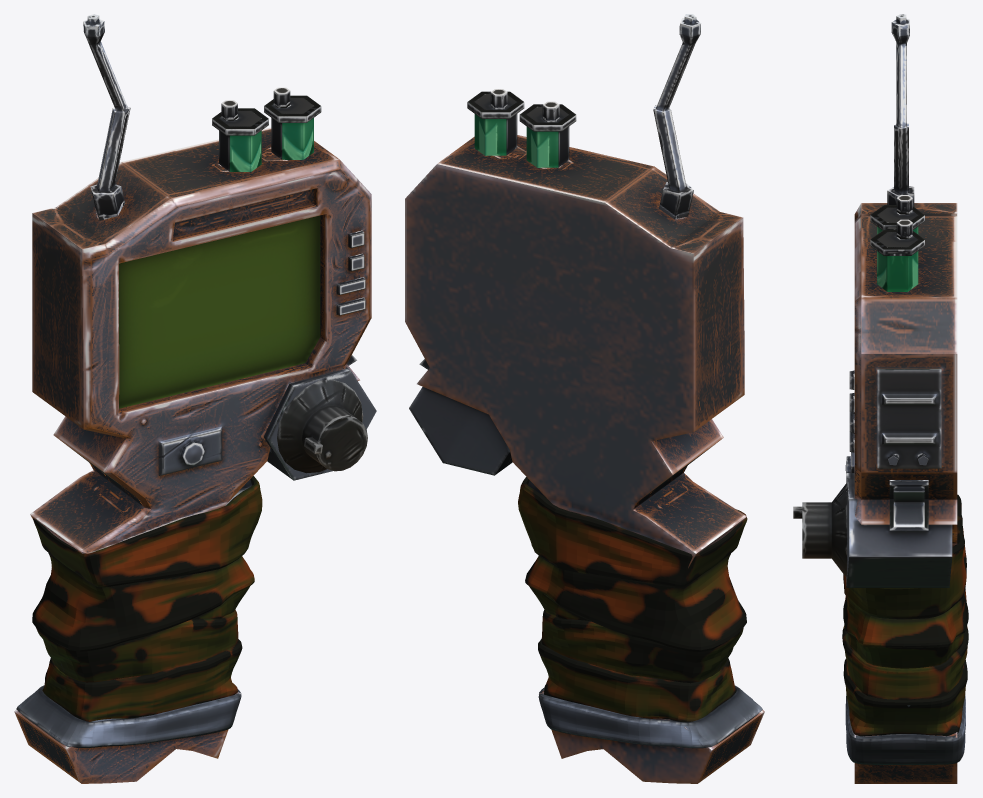
Rendered from device.glb.
3 views of the same model, side by side, from view 1: azimuth 30°, elevation 25°; view 2: azimuth 150°, elevation 25°; view 3: azimuth 270°, elevation 25° (orthographic). The views are drawn at different scales.
Parts seen in each view (by area): view 1: polySurface7; view 2: polySurface7; view 3: polySurface7.
Boxes of the visible parts, left/top/right/bottom form: polySurface7: left=14, top=14, right=376, bottom=783; polySurface7: left=405, top=14, right=764, bottom=783; polySurface7: left=793, top=14, right=968, bottom=783.
Bounding box in the file's own units: 0.9346 × 2.12 × 0.4667.
Materials: 1 (1 with a texture image).
